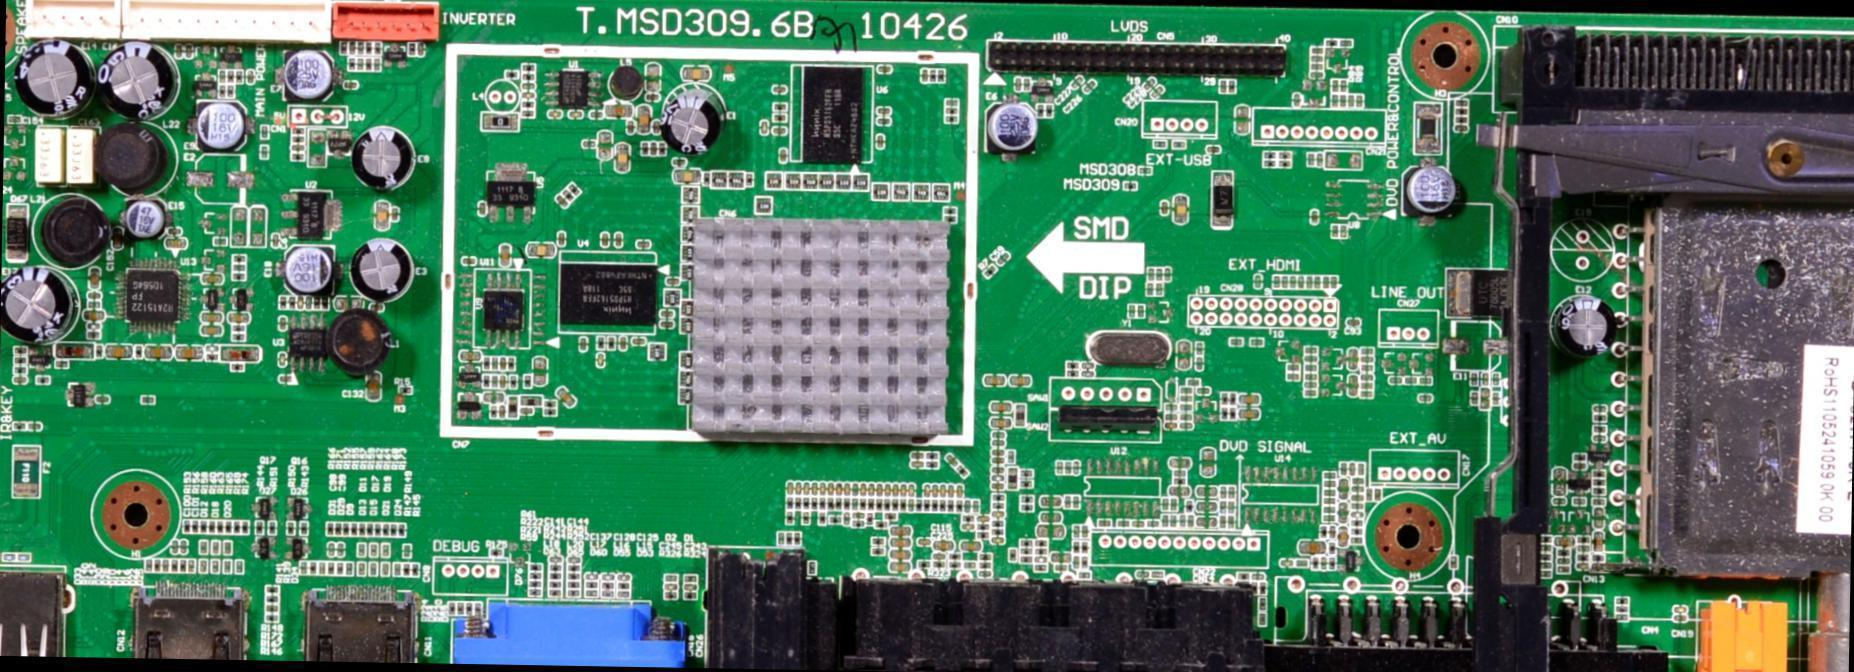Capacitor: (371, 199, 389, 231), (614, 143, 629, 171), (366, 374, 380, 404), (176, 344, 201, 360), (681, 66, 709, 80), (674, 169, 700, 184), (143, 346, 170, 360), (530, 242, 554, 257), (500, 244, 512, 269), (201, 272, 222, 285), (106, 346, 130, 357), (636, 106, 646, 132), (89, 266, 100, 288), (990, 416, 1010, 428), (164, 239, 185, 250), (197, 313, 222, 322), (888, 561, 908, 572), (1241, 394, 1258, 406), (983, 375, 1003, 385), (198, 326, 220, 335), (84, 311, 103, 321), (227, 313, 248, 322), (1008, 378, 1029, 386), (958, 544, 979, 552), (929, 552, 947, 561), (778, 148, 788, 164), (334, 541, 344, 557), (991, 405, 1009, 413), (1241, 409, 1257, 418), (936, 542, 950, 552), (326, 541, 334, 558), (771, 86, 786, 95), (855, 483, 864, 498), (170, 538, 178, 554), (614, 232, 623, 246), (878, 134, 886, 149), (915, 540, 930, 548), (889, 541, 909, 547), (179, 540, 187, 555), (600, 574, 615, 582), (892, 528, 909, 535), (890, 552, 907, 559), (548, 555, 561, 564), (878, 106, 892, 114), (759, 120, 766, 136), (556, 233, 564, 247), (878, 65, 890, 74), (878, 117, 891, 125), (919, 70, 927, 83), (921, 486, 930, 497), (616, 573, 627, 582), (566, 112, 580, 119), (600, 233, 607, 247), (990, 538, 1004, 545), (682, 584, 696, 591), (794, 482, 802, 494), (786, 481, 792, 497), (865, 483, 872, 496), (546, 111, 558, 118), (834, 483, 841, 495), (938, 486, 945, 498), (955, 486, 962, 498), (961, 523, 973, 530), (663, 584, 676, 590), (875, 485, 882, 496), (586, 573, 597, 580), (891, 484, 897, 496), (909, 485, 915, 497), (818, 483, 824, 495), (947, 487, 953, 499), (842, 483, 848, 494), (812, 484, 818, 495), (851, 484, 857, 495), (569, 557, 580, 563), (827, 483, 832, 496), (899, 485, 906, 494), (991, 512, 1002, 517), (979, 517, 990, 522), (932, 485, 937, 495), (884, 485, 888, 497), (804, 484, 808, 495)
Connector: (986, 39, 1289, 79), (122, 0, 331, 44), (336, 2, 442, 42), (23, 0, 114, 40)
IC: (558, 251, 656, 335), (790, 63, 872, 163), (121, 263, 187, 336), (1080, 458, 1160, 518), (471, 267, 530, 348), (1242, 466, 1319, 524), (285, 189, 340, 242), (485, 169, 535, 220), (290, 316, 331, 376), (546, 69, 598, 108)
Resistor: (867, 547, 885, 556), (521, 62, 537, 72), (266, 520, 276, 535), (943, 115, 959, 124), (1261, 150, 1277, 159), (771, 102, 785, 112), (771, 113, 785, 123), (639, 142, 649, 156), (12, 421, 26, 431), (659, 138, 665, 161), (12, 356, 27, 365), (387, 522, 396, 537), (488, 548, 503, 557), (661, 591, 676, 600), (1021, 501, 1033, 512), (232, 254, 245, 264), (364, 523, 374, 536), (397, 525, 407, 538), (178, 561, 188, 574), (936, 69, 946, 82), (1261, 159, 1277, 167), (869, 537, 885, 545), (683, 593, 699, 601), (12, 366, 26, 375), (402, 544, 411, 558), (528, 563, 542, 572), (1063, 362, 1078, 370), (991, 500, 1003, 510), (833, 497, 841, 512), (372, 524, 382, 536), (339, 524, 349, 536), (232, 333, 245, 342), (1020, 470, 1033, 479), (206, 520, 215, 533), (231, 522, 240, 535), (265, 603, 278, 612), (942, 216, 956, 224), (231, 272, 245, 280), (232, 324, 246, 332), (13, 347, 27, 355), (34, 377, 48, 385), (299, 521, 307, 535), (181, 519, 189, 533), (526, 588, 540, 596), (506, 359, 516, 370), (521, 110, 533, 119), (289, 153, 301, 162), (87, 332, 99, 341), (1080, 544, 1089, 556), (410, 564, 419, 576), (95, 344, 102, 359), (264, 615, 279, 622), (225, 86, 233, 99), (230, 364, 243, 372), (809, 498, 817, 511), (223, 522, 231, 535), (1019, 539, 1032, 547), (326, 563, 334, 576), (266, 595, 279, 603), (522, 72, 533, 81), (544, 399, 555, 408), (1019, 478, 1030, 487), (482, 356, 489, 370), (199, 520, 206, 534), (215, 521, 222, 535), (792, 532, 799, 546), (566, 575, 580, 582), (265, 585, 279, 592), (373, 42, 380, 56), (1278, 151, 1290, 159), (942, 207, 954, 215), (133, 346, 141, 358), (991, 493, 1003, 501), (784, 497, 792, 509), (357, 523, 365, 535), (978, 553, 990, 561), (547, 573, 559, 581), (407, 44, 415, 56), (503, 71, 516, 78), (217, 86, 224, 99), (945, 107, 958, 114), (961, 515, 974, 522), (191, 521, 198, 534), (309, 562, 316, 575), (340, 43, 347, 56), (1062, 370, 1077, 376), (826, 499, 832, 514), (291, 127, 302, 135), (240, 522, 248, 533), (918, 561, 929, 569), (522, 102, 534, 109), (606, 337, 613, 349), (1228, 394, 1235, 406), (399, 387, 411, 394), (786, 512, 793, 524), (256, 521, 263, 533), (1032, 541, 1046, 547), (948, 554, 960, 561), (549, 565, 561, 572), (528, 573, 540, 580), (595, 336, 603, 346), (522, 375, 530, 385), (897, 500, 905, 510), (953, 501, 961, 511), (856, 500, 864, 510), (937, 503, 945, 513), (236, 70, 242, 83), (490, 406, 496, 419), (841, 498, 847, 511), (793, 498, 799, 511), (171, 561, 177, 574), (364, 59, 370, 72), (206, 354, 217, 361), (1219, 409, 1226, 420), (929, 500, 936, 511), (802, 512, 809, 523), (350, 524, 357, 535), (529, 582, 540, 589), (1020, 497, 1035, 502), (291, 136, 303, 142), (508, 376, 514, 388), (1227, 409, 1235, 418), (875, 521, 887, 527), (288, 523, 294, 535), (947, 563, 959, 569), (567, 565, 579, 571), (404, 564, 410, 576), (466, 604, 472, 616), (365, 41, 371, 53), (349, 57, 355, 69), (928, 69, 934, 81), (978, 525, 988, 532), (992, 528, 1002, 535), (333, 522, 338, 536), (327, 522, 332, 536), (1278, 161, 1289, 167), (885, 514, 896, 520), (1074, 543, 1080, 554), (1081, 558, 1087, 569), (933, 562, 944, 568), (154, 561, 160, 572), (481, 378, 489, 386), (882, 503, 890, 511), (1221, 393, 1227, 403), (850, 499, 856, 509), (946, 502, 952, 512), (382, 526, 388, 536), (449, 603, 454, 615), (890, 501, 897, 509), (817, 500, 824, 508), (827, 500, 831, 514), (227, 70, 232, 81), (802, 497, 807, 508), (870, 499, 875, 510), (992, 522, 1003, 527), (545, 410, 555, 415), (787, 533, 791, 545), (981, 563, 989, 569), (876, 500, 881, 509), (916, 502, 921, 511), (924, 503, 929, 512), (979, 533, 987, 537)
Transistor: (455, 395, 480, 426), (455, 363, 478, 389)
